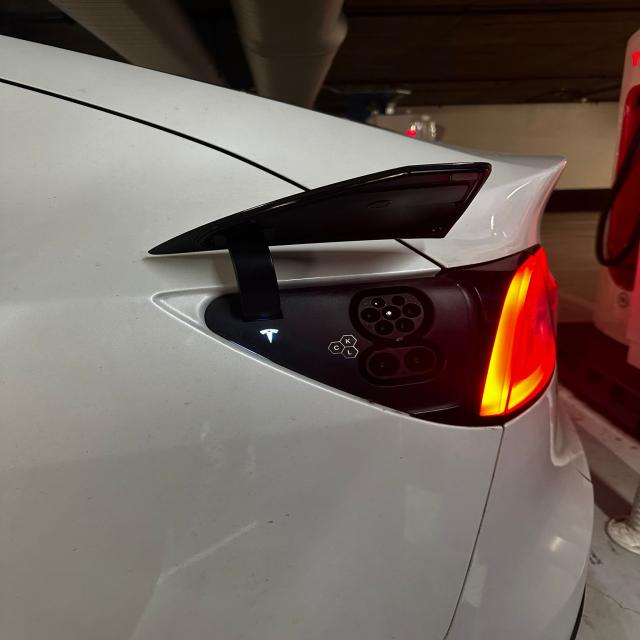inlet: (358, 293, 424, 338)
inlet-above-left: (371, 298, 386, 308)
inlet-above-right: (392, 295, 405, 306)
inlet-below-left: (374, 320, 395, 336)
inlet-below-right: (395, 318, 415, 333)
inlet-circle: (382, 305, 401, 320)
inlet-circle-left: (361, 307, 381, 323)
inlet-circle-right: (401, 303, 422, 318)
inlet-minus: (404, 347, 435, 373)
inlet-plus: (368, 352, 400, 377)
